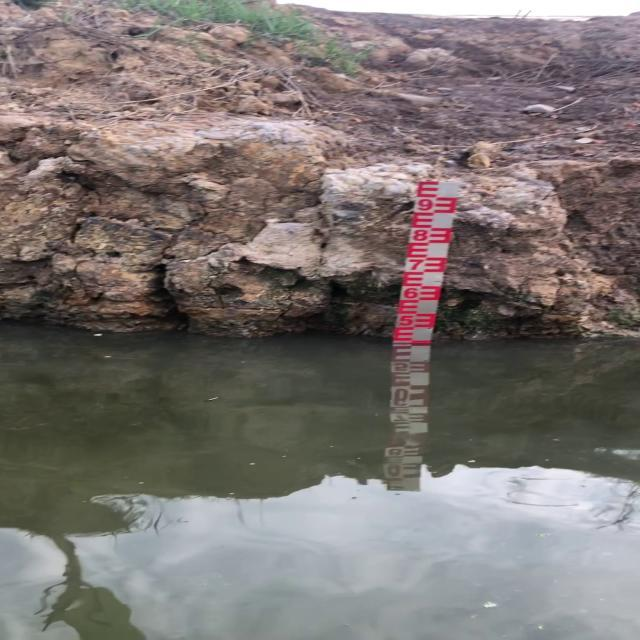ruler: (383, 176, 471, 357)
value: (404, 254, 427, 273), (414, 196, 435, 216), (408, 227, 430, 246), (399, 284, 422, 301), (397, 312, 418, 329)
